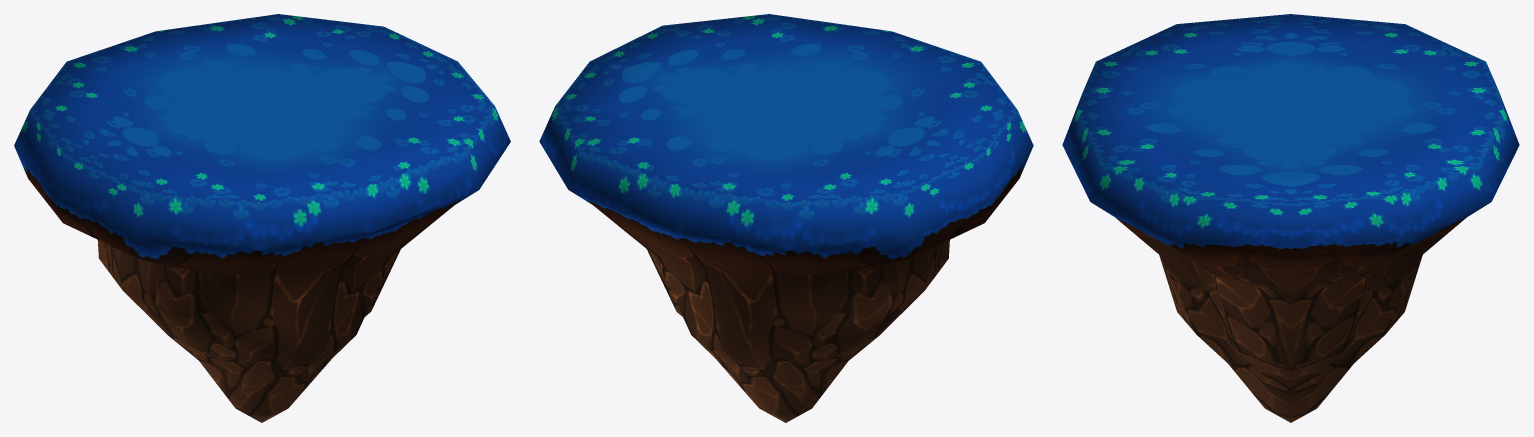
Rendered from Blue_Island_01.FBX.
3 renders of one model, left to right at view 1: azimuth 30°, elevation 25°; view 2: azimuth 150°, elevation 25°; view 3: azimuth 270°, elevation 25°, orthographic.
Parts seen in each view (by area): view 1: Blue_Island_01; view 2: Blue_Island_01; view 3: Blue_Island_01.
Part boxes in pixels (x1=…): Blue_Island_01: x1=14, y1=14, x2=510, y2=422; Blue_Island_01: x1=539, y1=14, x2=1033, y2=422; Blue_Island_01: x1=1062, y1=14, x2=1519, y2=422.
Size of the model in its own units: 1823 by 1312 by 1724.
